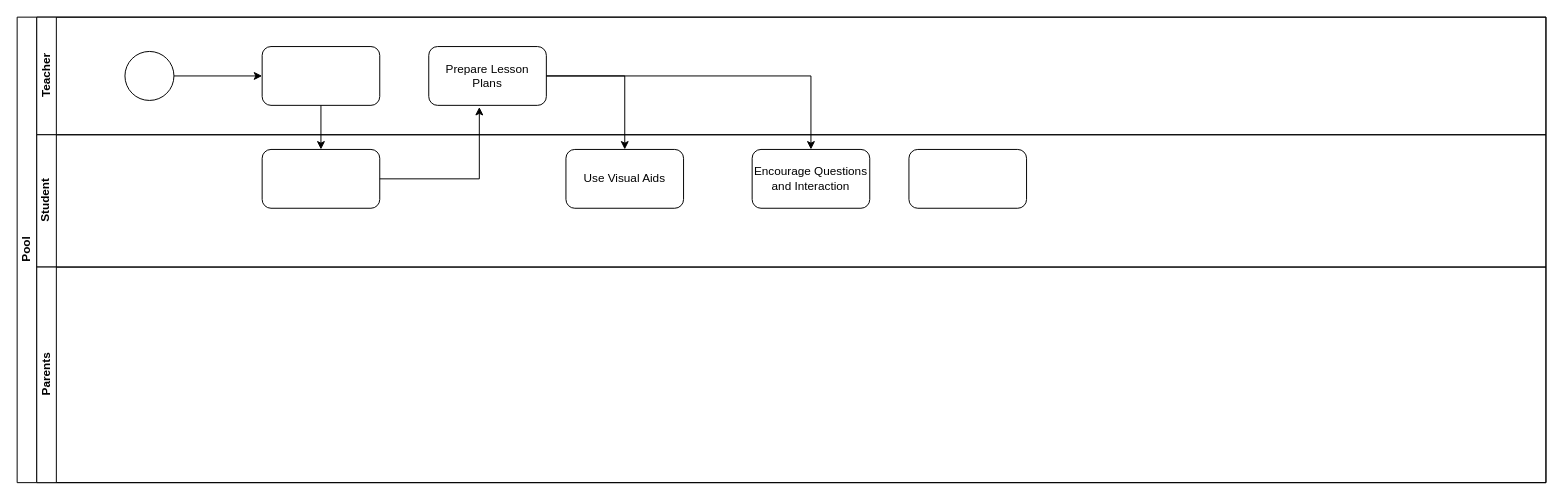
Some shapes in this 1563 by 500 pixel diagram are drawn without their labels. Each missing label, with the centre of its shape:
Create a Fun Learning Environment: pixel 320 178
Start: pixel 149 75
Understand the Needs of Kids: pixel 320 75
